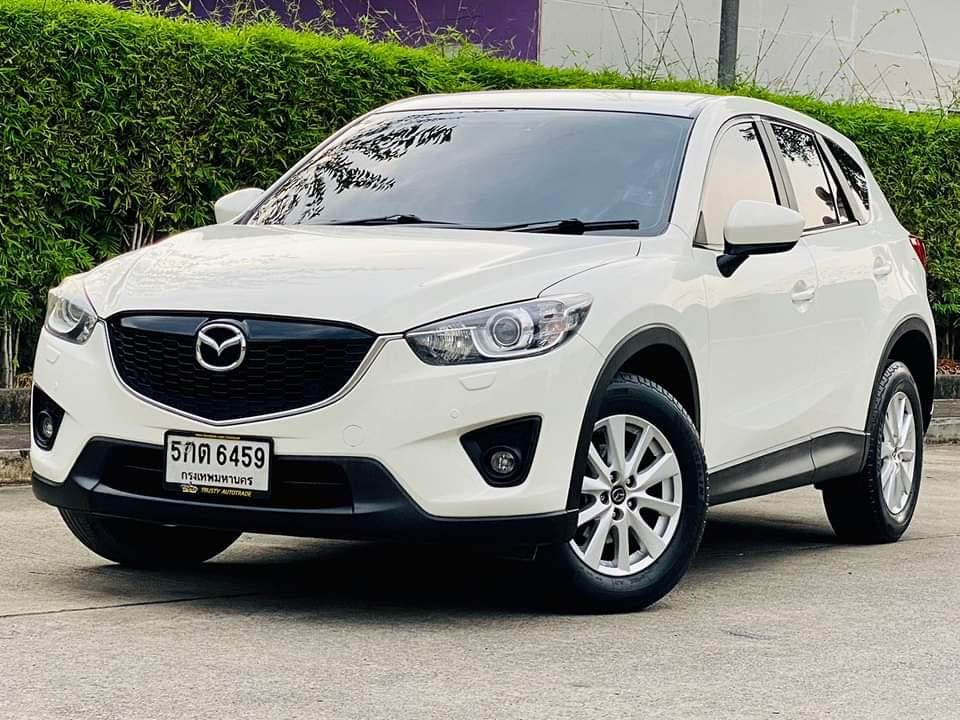license-plate: (162, 426, 276, 502)
